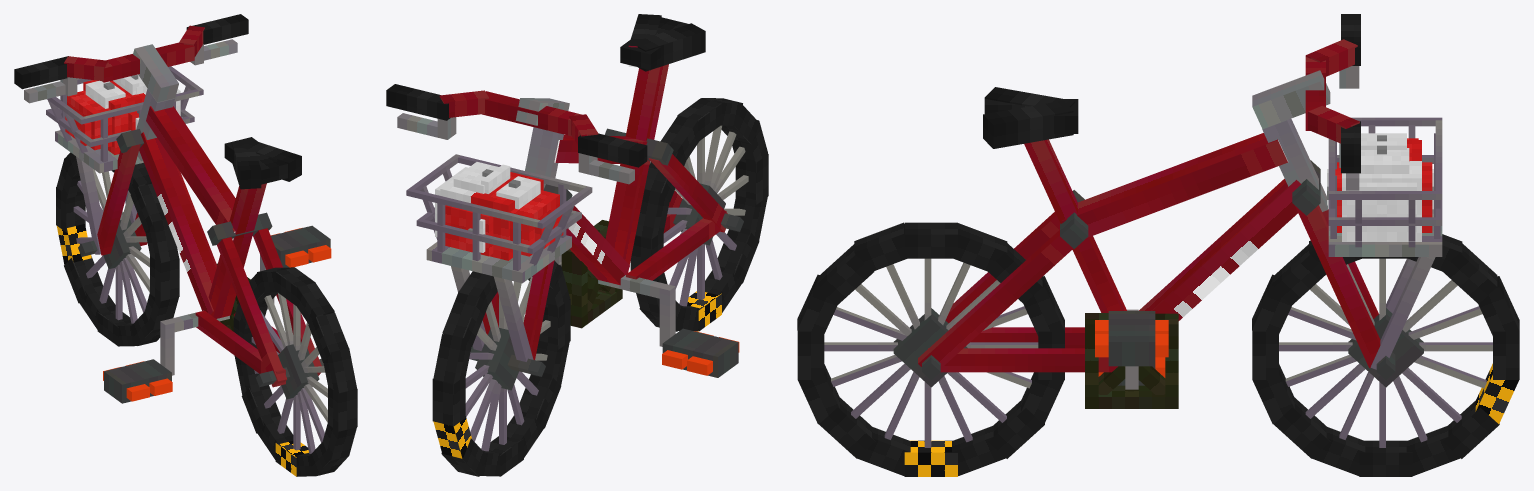
File: bicycle.glb
The picture shows the model from 3 angles, left to right: view 1: azimuth 30°, elevation 25°; view 2: azimuth 150°, elevation 25°; view 3: azimuth 270°, elevation 25°; orthographic projection. The views are drawn at different scales.
Parts seen in each view (by area): view 1: Object_2; view 2: Object_2; view 3: Object_2.
Boxes of the visible parts, x1,y1,x2,y2 form: Object_2: [14, 14, 357, 476]; Object_2: [386, 14, 768, 476]; Object_2: [797, 14, 1519, 476].
Size of the model in its own units: 12.5 by 16.3 by 27.02.
1 material, 1 textured.
